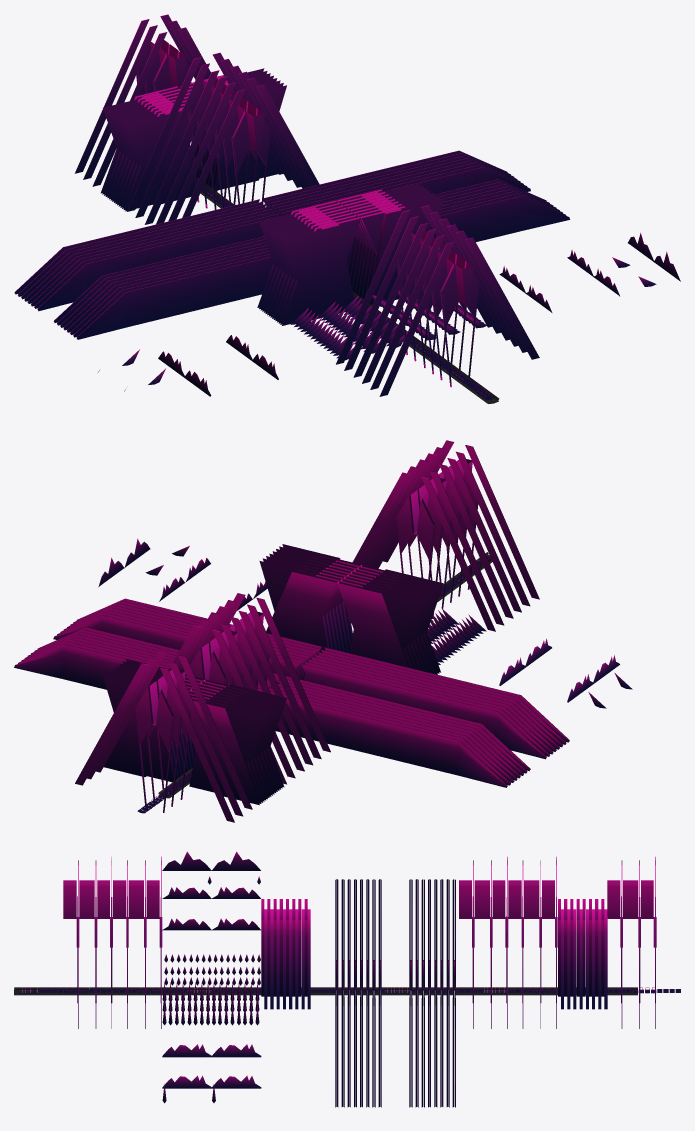
The model's file is tonnels-detached2.fbx.
3 views of the same model, one above another, from view 1: azimuth 30°, elevation 25°; view 2: azimuth 150°, elevation 25°; view 3: azimuth 270°, elevation 25° (orthographic). The views are drawn at different scales.
Visible parts, largest first — view 1: outher-tonnel_002, outher-tonnel_003, outher_tonnel_003, outher_tonnel_007, outher_tonnel_011, outher_tonnel_010, outher_tonnel_009, outher_tonnel_006, outher_tonnel_012, outher_tonnel_008, outher_tonnel_005; view 2: outher-tonnel_003, outher_tonnel_003, outher-tonnel_002, outher_tonnel_011, outher_tonnel_012, outher_tonnel_006, outher_tonnel_007, outher_tonnel_010, outher_tonnel_009, outher_tonnel_005, outher_tonnel_008; view 3: outher-tonnel_003, outher-tonnel_002, outher_tonnel_003, outher_tonnel_011, outher_tonnel_005, outher_tonnel_008, outher_tonnel_007, outher_tonnel_010, outher_tonnel_012, outher_tonnel_009, outher_tonnel_006.
Boxes of the visible parts, x1,y1,x2,y2 form: outher-tonnel_002: (54, 179, 570, 339); outher-tonnel_003: (14, 150, 530, 311); outher_tonnel_003: (257, 183, 443, 325); outher_tonnel_007: (362, 224, 539, 396); outher_tonnel_011: (101, 68, 286, 211); outher_tonnel_010: (156, 71, 319, 224); outher_tonnel_009: (127, 52, 301, 224); outher_tonnel_006: (336, 205, 509, 377); outher_tonnel_012: (75, 14, 210, 186); outher_tonnel_008: (98, 233, 653, 377); outher_tonnel_005: (124, 251, 680, 396); outher-tonnel_003: (14, 627, 530, 787); outher_tonnel_003: (259, 544, 443, 674); outher-tonnel_002: (53, 598, 569, 759); outher_tonnel_011: (103, 658, 286, 805); outher_tonnel_012: (75, 650, 252, 822); outher_tonnel_006: (352, 459, 513, 631); outher_tonnel_007: (370, 440, 539, 612); outher_tonnel_010: (186, 593, 330, 765); outher_tonnel_009: (169, 612, 304, 784); outher_tonnel_005: (124, 538, 632, 689); outher_tonnel_008: (98, 557, 606, 708); outher-tonnel_003: (409, 879, 455, 1107); outher-tonnel_002: (335, 879, 381, 1107); outher_tonnel_003: (261, 899, 310, 1009); outher_tonnel_011: (558, 899, 607, 1009); outher_tonnel_005: (162, 851, 211, 1103); outher_tonnel_008: (211, 851, 261, 1102); outher_tonnel_007: (63, 857, 112, 1028); outher_tonnel_010: (459, 856, 508, 1028); outher_tonnel_012: (607, 856, 656, 1028); outher_tonnel_009: (508, 856, 557, 1028); outher_tonnel_006: (113, 856, 162, 1028).
Size of the model in its own units: 608 by 157 by 698.
